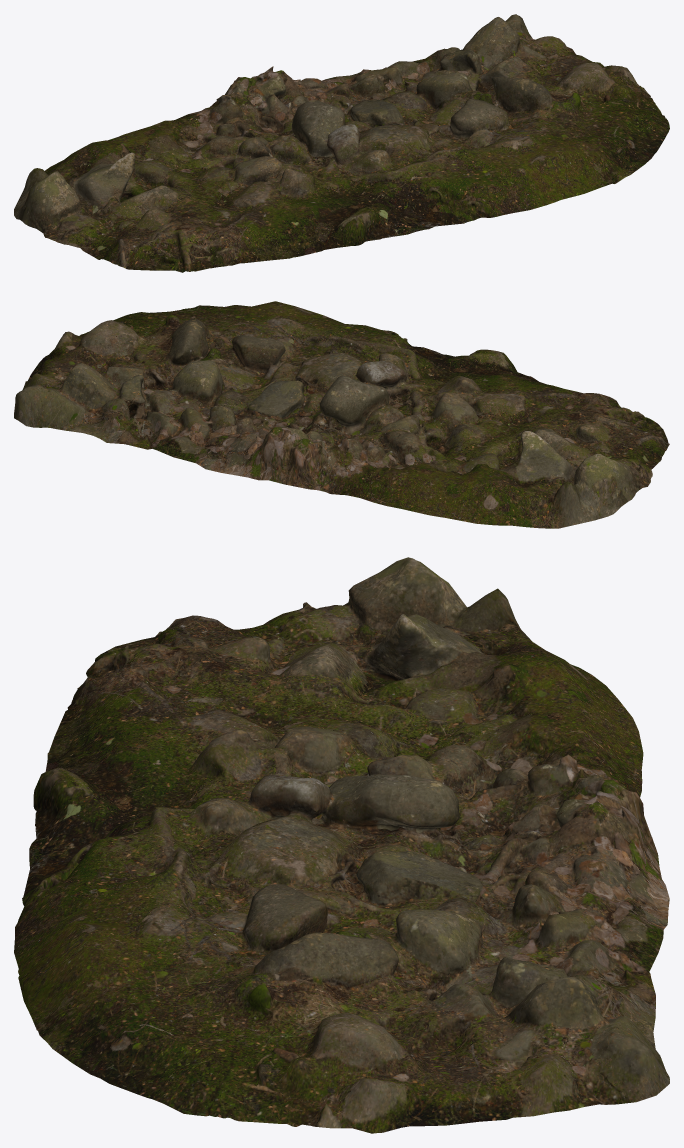
File: Mossy_Rocks_tjmudcfda_High.gltf
3 views of the same model, one above another, from view 1: azimuth 30°, elevation 25°; view 2: azimuth 150°, elevation 25°; view 3: azimuth 270°, elevation 25° (orthographic). The views are drawn at different scales.
Visible parts, largest first — view 1: tjmudcfda_LOD0_TIER1_000; view 2: tjmudcfda_LOD0_TIER1_000; view 3: tjmudcfda_LOD0_TIER1_000.
Boxes of the visible parts, x1,y1,x2,y2 form: tjmudcfda_LOD0_TIER1_000: (14,14,669,272); tjmudcfda_LOD0_TIER1_000: (14,301,669,528); tjmudcfda_LOD0_TIER1_000: (14,557,669,1133).
Size of the model in its own units: 3.03 by 0.2754 by 1.61.
Materials: 1 (1 with a texture image).
